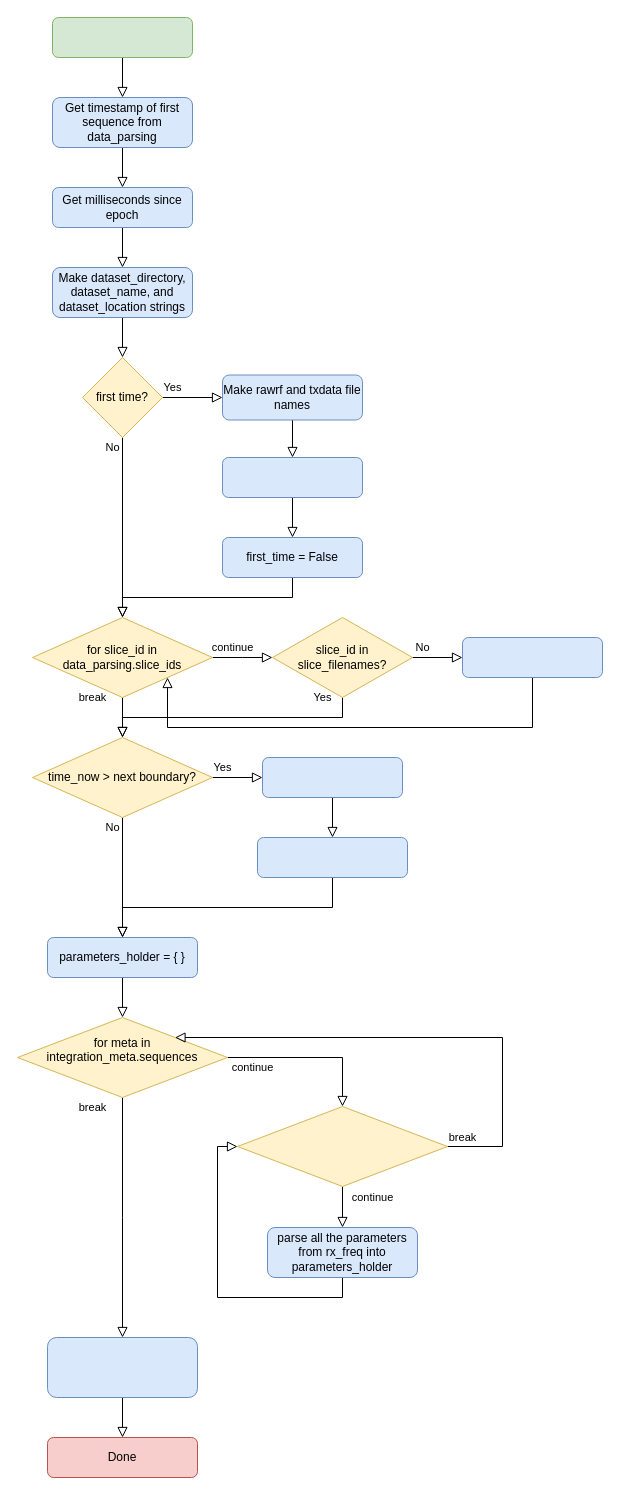
The diagram is 620 pixels wide and 1495 high, and some of its shapes have lost their labels. The centre of each missing label's shape, as x and y in pixels:
Add it, and create new filename for slice_id: the point at 532,657
Create new filenames for next two hours: the point at 332,777
DataWrite.output_data(): the point at 122,37
for rx_freq in meta.rxchannel: the point at 342,1146
next boundary = two hour ceiling: the point at 292,477
next_boundary += 2 hours: the point at 332,857
write correlations, bfiq , antenna_iq, rawrf, and tx_data as specified: the point at 122,1367
